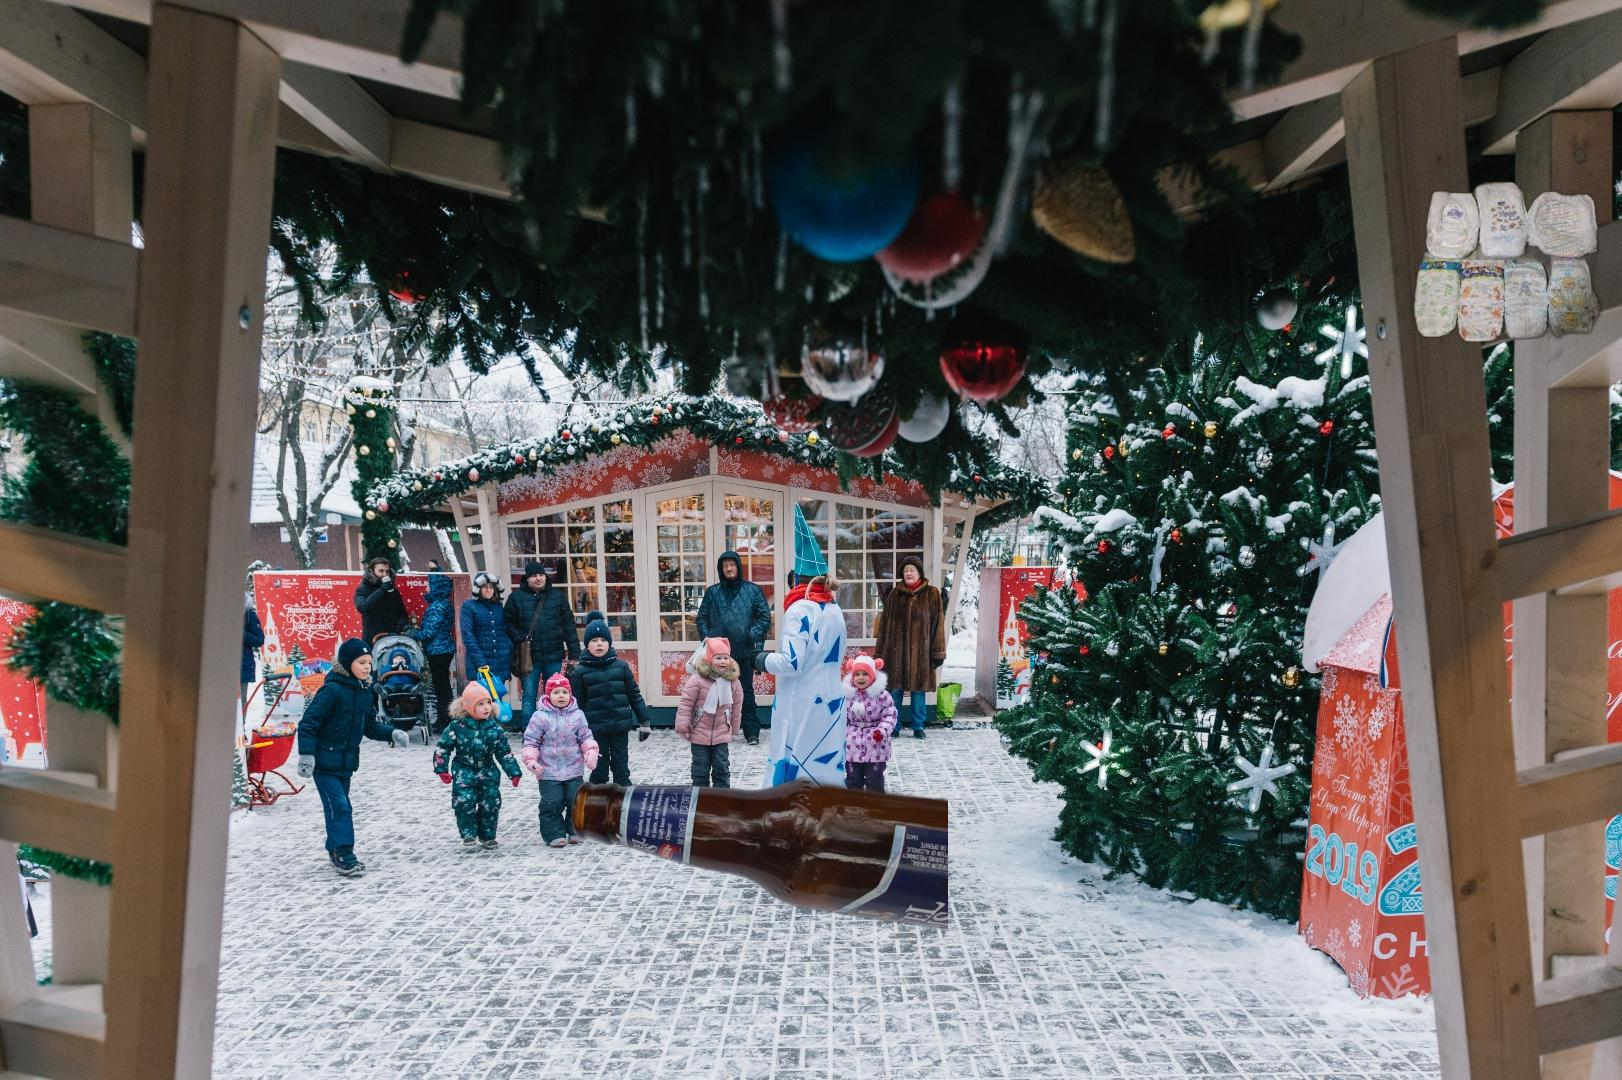glass: (568, 774, 948, 933)
trash: (1395, 180, 1614, 347)
